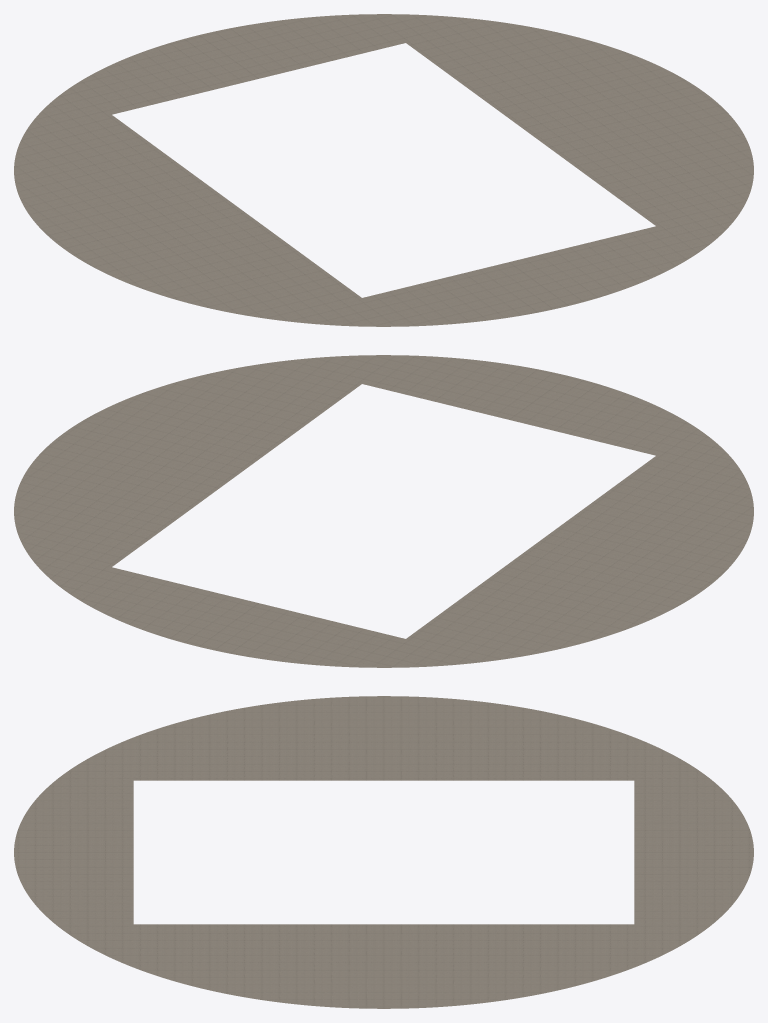
File: ground_ring.dae
3 renders of one model, top to bottom at view 1: azimuth 30°, elevation 25°; view 2: azimuth 150°, elevation 25°; view 3: azimuth 270°, elevation 25°, orthographic.
Visible parts, largest first — view 1: stadium_ground_ring; view 2: stadium_ground_ring; view 3: stadium_ground_ring.
Boxes of the visible parts, x1,y1,x2,y2 form: stadium_ground_ring: (14,14,753,326); stadium_ground_ring: (14,355,753,667); stadium_ground_ring: (14,696,753,1008).
Bounding box in the file's own units: 170 × 170 × 0.
1 material, 1 textured.
